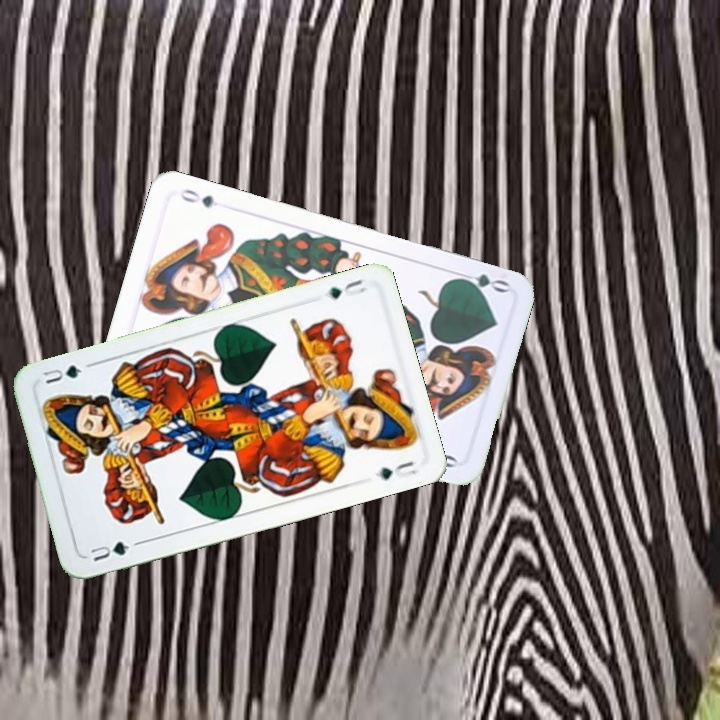GO: (451, 267, 511, 296)
GU: (86, 537, 132, 564), (325, 275, 369, 302)
